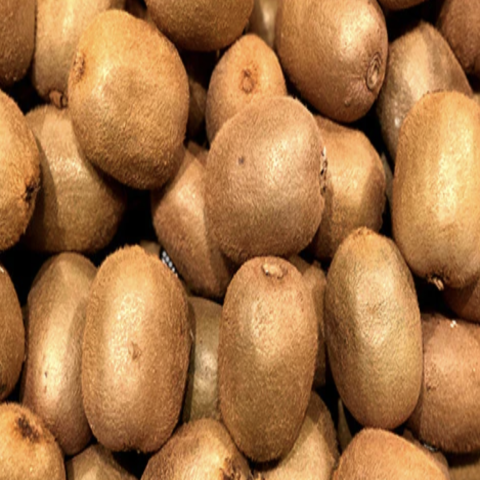kiwi: (201, 89, 354, 270), (309, 218, 443, 423), (78, 239, 197, 468), (58, 5, 195, 203), (215, 246, 323, 474), (381, 81, 480, 280)
